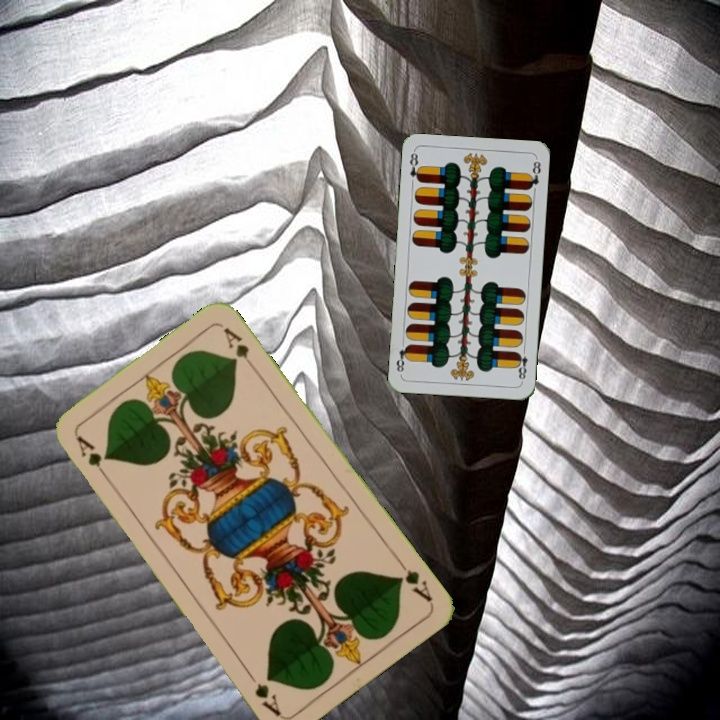E8: (512, 344, 530, 384), (405, 148, 424, 185)
GA: (392, 554, 436, 605), (72, 431, 112, 483)
